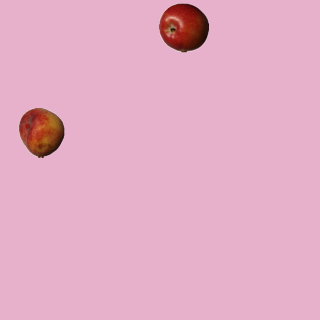Apple Braeburn: (158, 2, 208, 52)
Peach: (16, 107, 66, 157)
